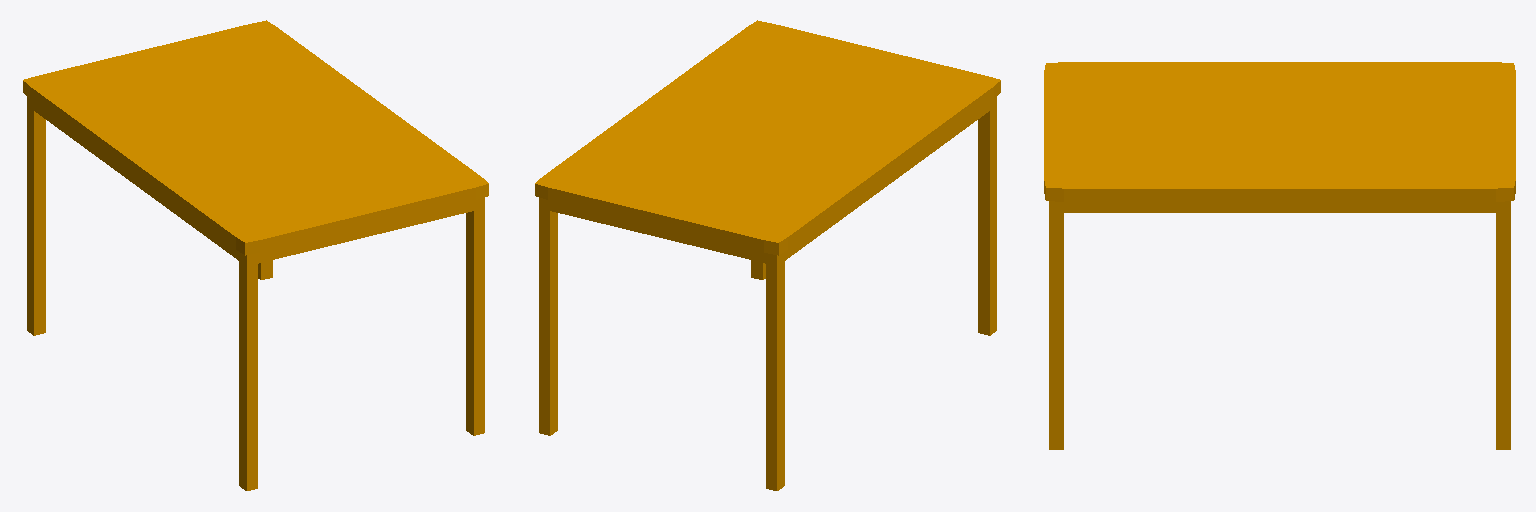
The robot description file, URDF, robot "4OG9M7Ht":
<?xml version='1.0' encoding='us-ascii'?>
<robot name="4OG9M7Ht">
   <link name="base_link">
      <visual>
         <origin xyz="0.0 0.0 0.0" />
         <geometry>
            <mesh filename="shape\visual\breakfast_table-nvoqyl-0.obj" />
         </geometry>
      </visual>
      <collision>
         <origin xyz="0.0 0.0 0.0" />
         <geometry>
            <mesh filename="shape\collision\breakfast_table-nvoqyl-0.obj" />
         </geometry>
      </collision>
   </link>
</robot>

--- Render facts (derived) ---
Views: 3 orthographic renders of the robot side by side, from view 1: azimuth 30°, elevation 25°; view 2: azimuth 150°, elevation 25°; view 3: azimuth 270°, elevation 25°.
Model 4OG9M7Ht with 1 links and 0 joints (none), rooted at base_link, posed all joints at 0.
Links seen in each view (by area): view 1: base_link; view 2: base_link; view 3: base_link.
Boxes of the visible links, x1,y1,x2,y2 form: base_link: [23, 20, 488, 490]; base_link: [535, 20, 1000, 490]; base_link: [1044, 62, 1515, 449].
Size in the robot's own frame: 0.763 by 1.2 by 0.7412 metres.
1 mesh visuals loaded from 1 distinct referenced files (1 OBJ).